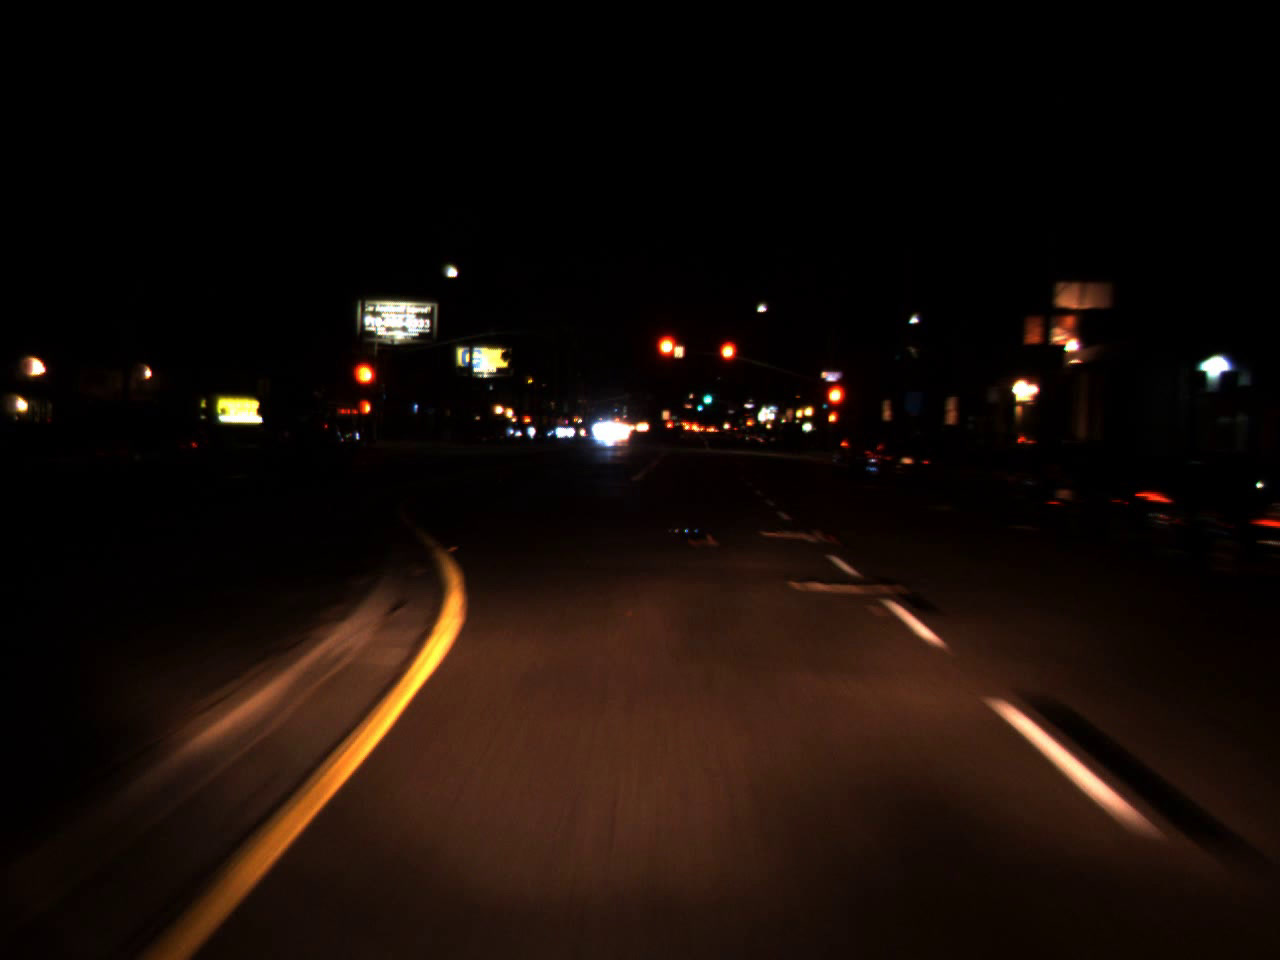go: (700, 385, 714, 406)
stop: (351, 359, 378, 413), (654, 331, 679, 385), (824, 381, 848, 429), (716, 339, 737, 387)
